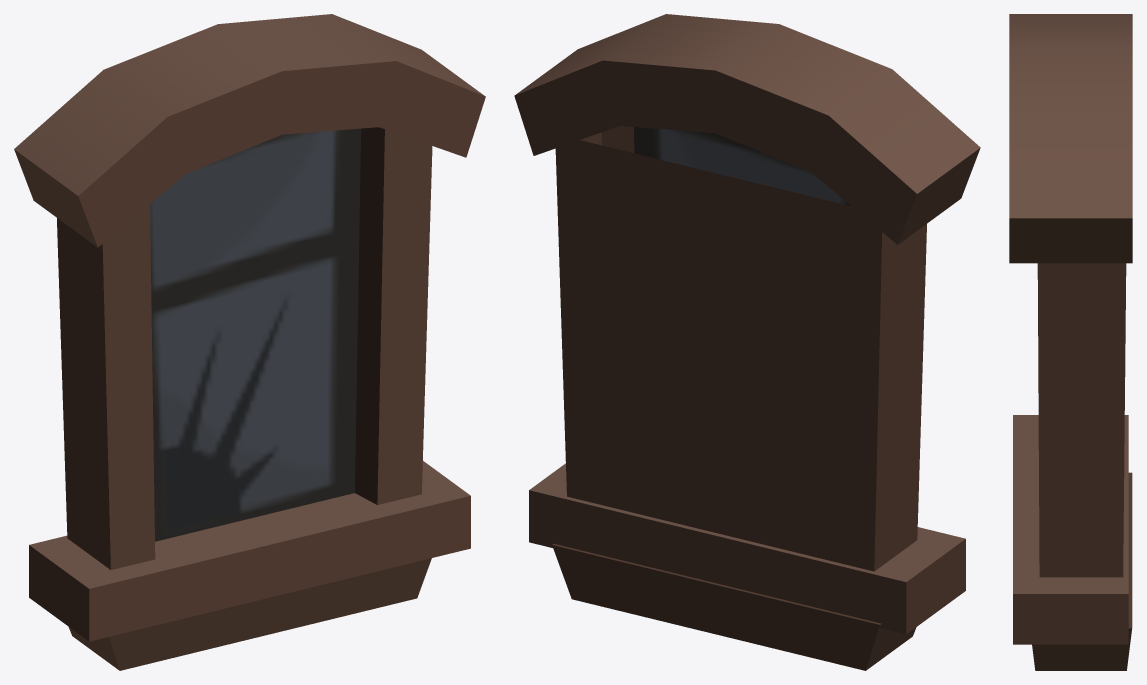
File: Window_E03.fbx
3 renders of one model, left to right at view 1: azimuth 30°, elevation 25°; view 2: azimuth 150°, elevation 25°; view 3: azimuth 270°, elevation 25°, orthographic. The views are drawn at different scales.
Visible parts, largest first — view 1: Window_E03; view 2: Window_E03; view 3: Window_E03.
Part boxes in pixels (left/top/right/bottom): Window_E03: left=14, top=14, right=485, bottom=670; Window_E03: left=514, top=14, right=980, bottom=670; Window_E03: left=1009, top=14, right=1132, bottom=670.
Bounding box in the file's own units: 165 × 221 × 44.99.
